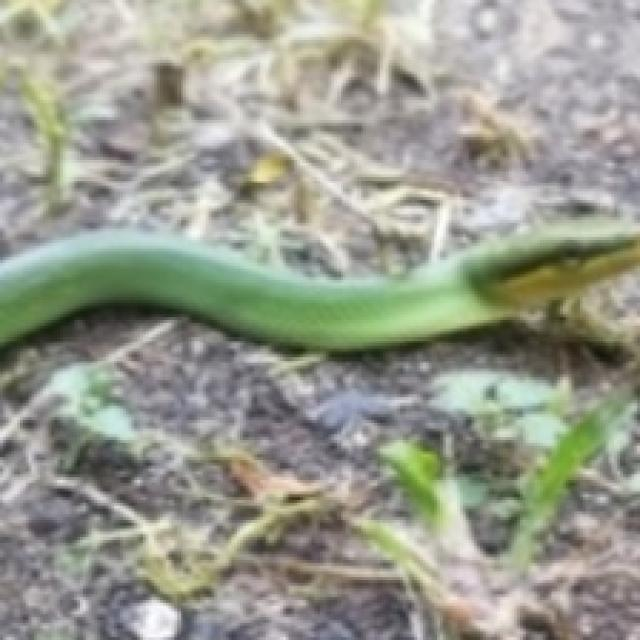red-tailed green ratsnake: (0, 224, 640, 351)
